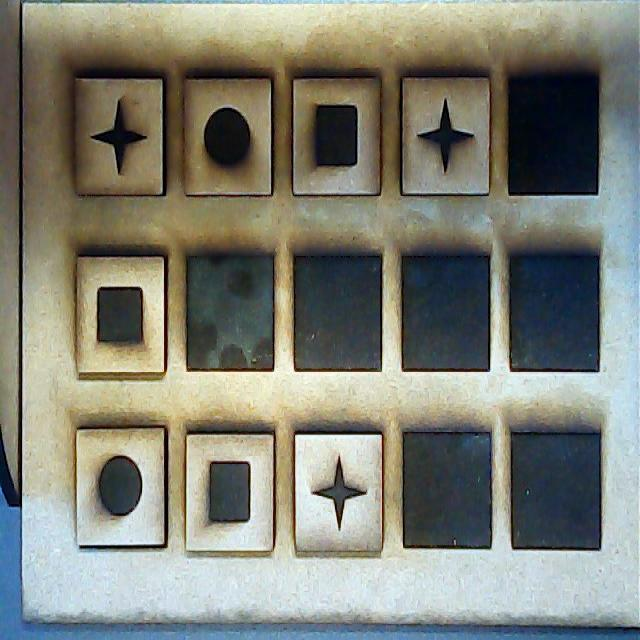circle: (75, 427, 165, 550), (182, 80, 271, 192)
square: (72, 250, 168, 377), (186, 431, 273, 550), (296, 77, 382, 194)
star: (293, 431, 384, 551), (402, 73, 488, 198), (76, 80, 162, 194)
